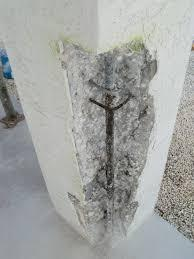exposed_rebar: (89, 94, 130, 185)
spalling: (48, 38, 158, 246)
